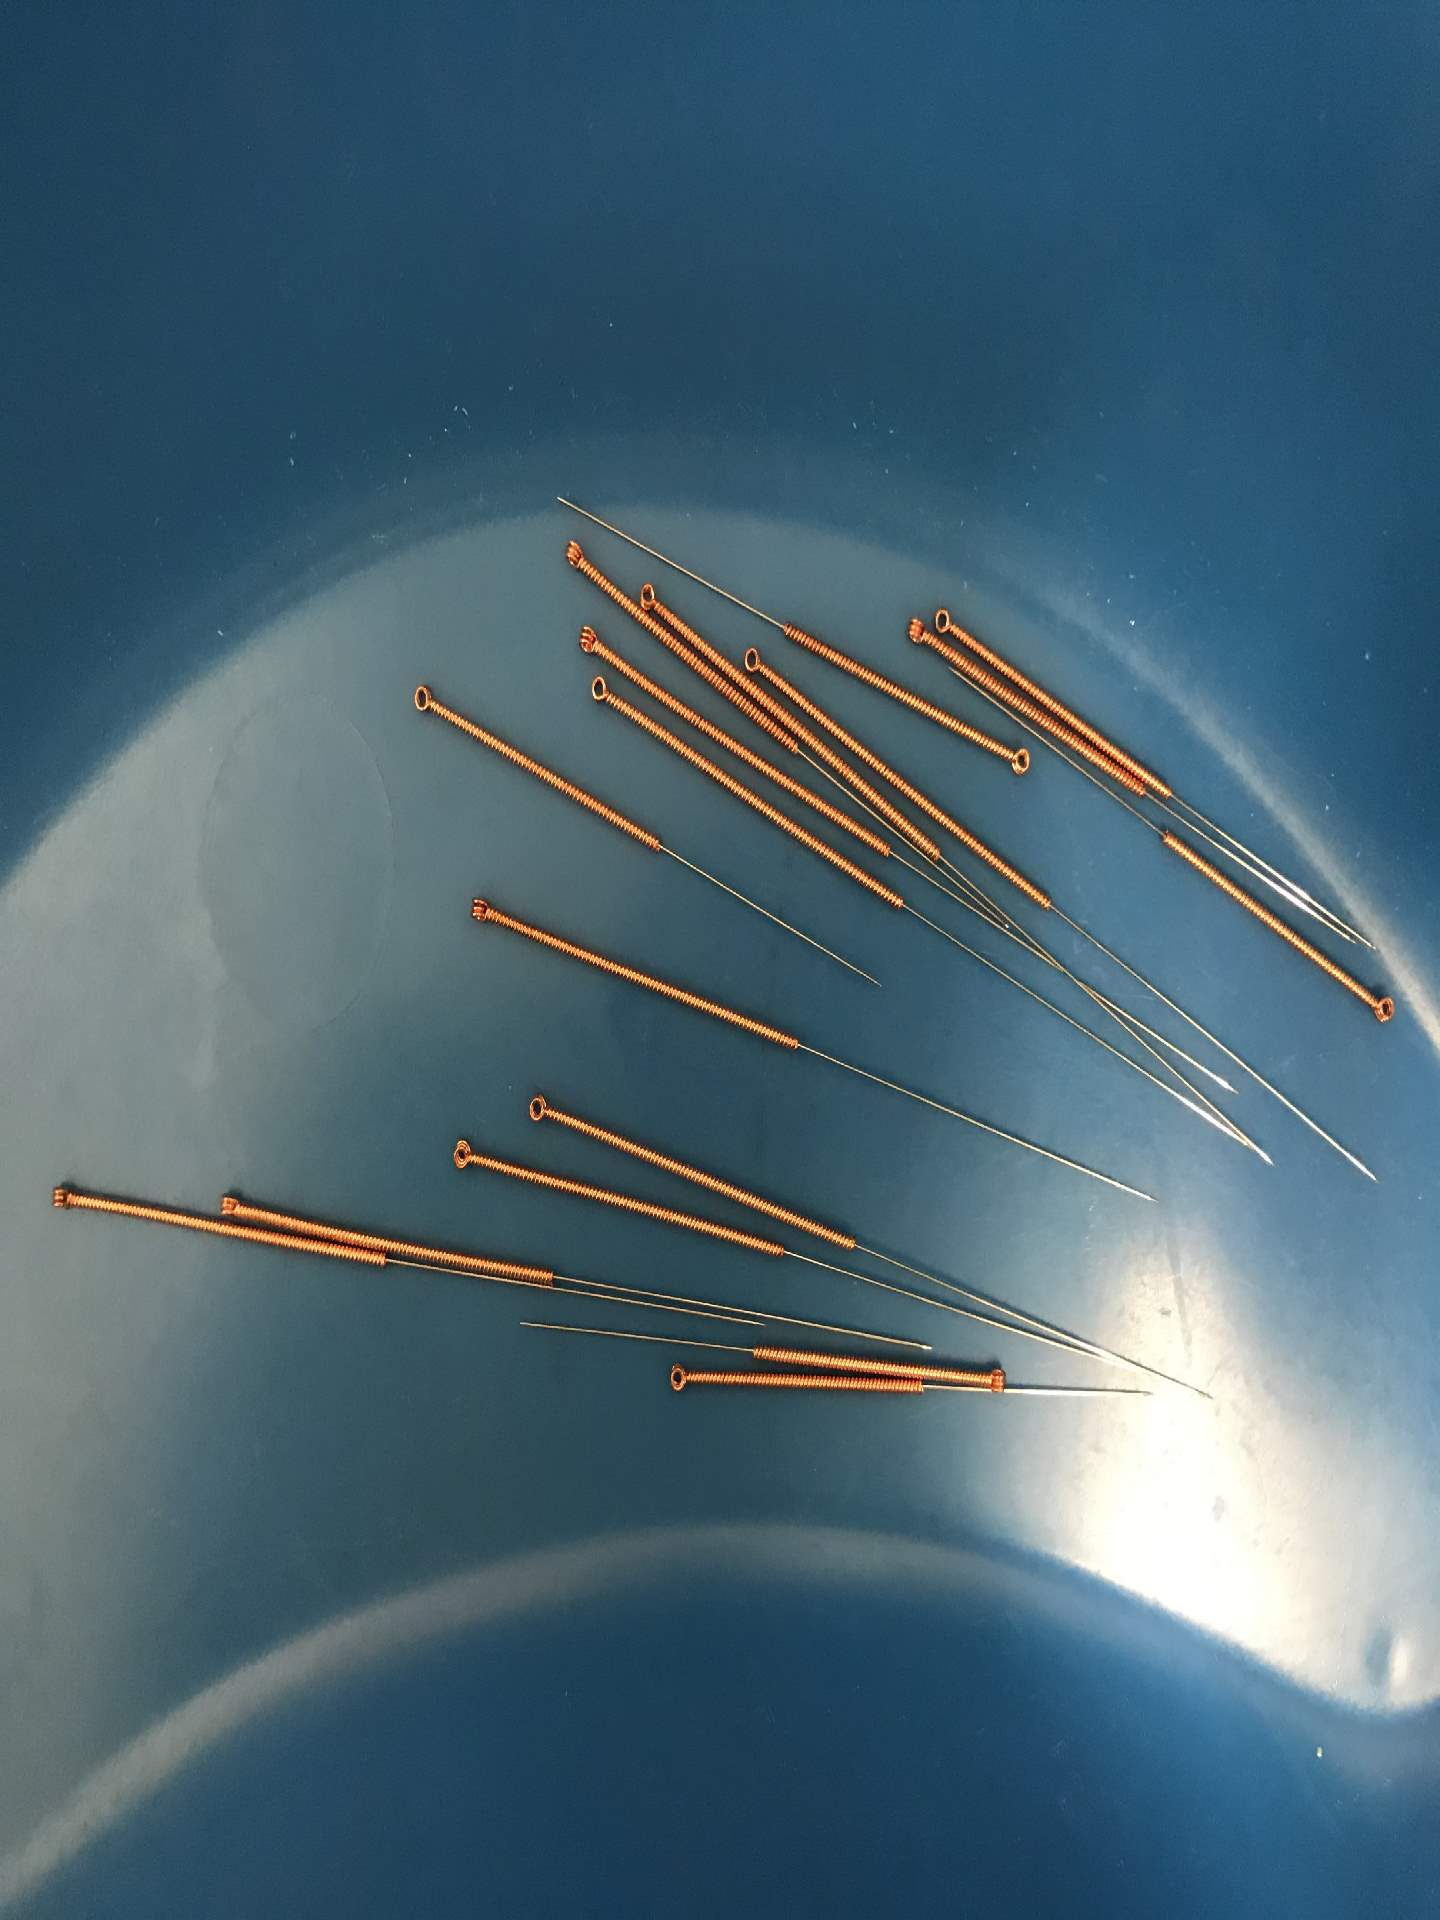needle: (39, 1175, 88, 1220), (1357, 980, 1401, 1030), (442, 1129, 484, 1181), (402, 674, 443, 724), (517, 1085, 560, 1132), (658, 1356, 700, 1400), (569, 617, 610, 661), (579, 668, 619, 714), (210, 1185, 253, 1226), (461, 889, 501, 933), (554, 534, 594, 574), (998, 742, 1041, 782), (976, 1358, 1013, 1401), (898, 612, 935, 653), (927, 603, 964, 641), (635, 578, 669, 618), (740, 639, 771, 680)
